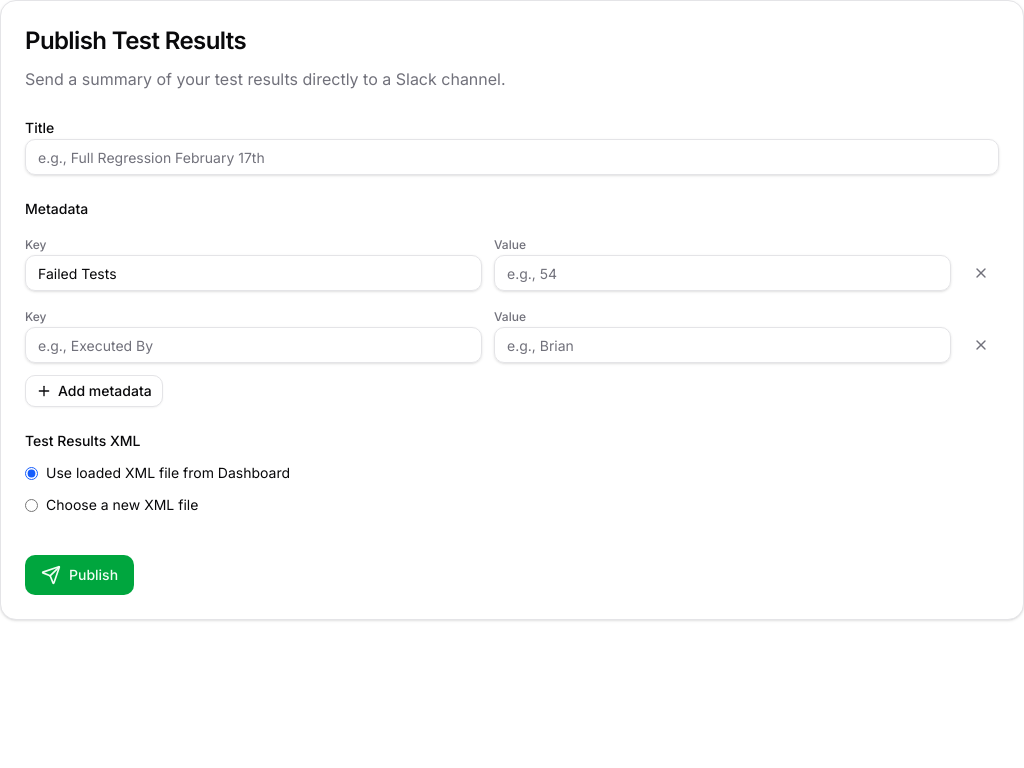
Test: PublishPage › should show error when publishing without title
Click the button "Publish": (80, 575) [25, 555, 134, 595]
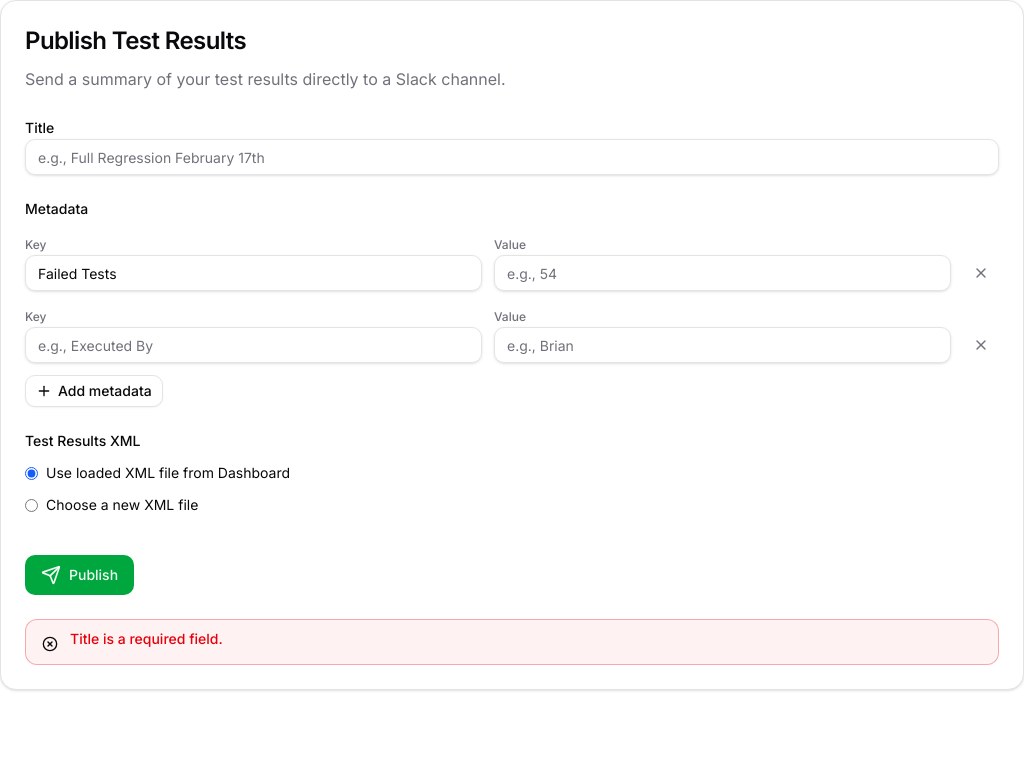
Now the text "Title is a required field." is shown, box [70, 630, 223, 647]
